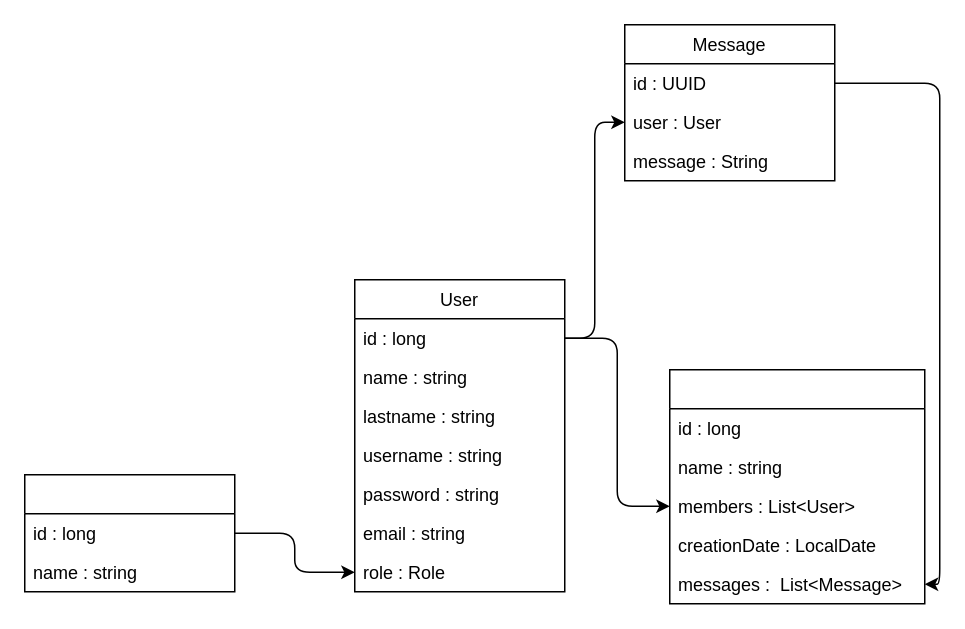
The diagram is 965 pixels wide and 629 high, and some of its shapes have lost their labels. Each missing label, with the box of its shape:
Group: (668, 368, 925, 604)
Role: (23, 473, 235, 592)
